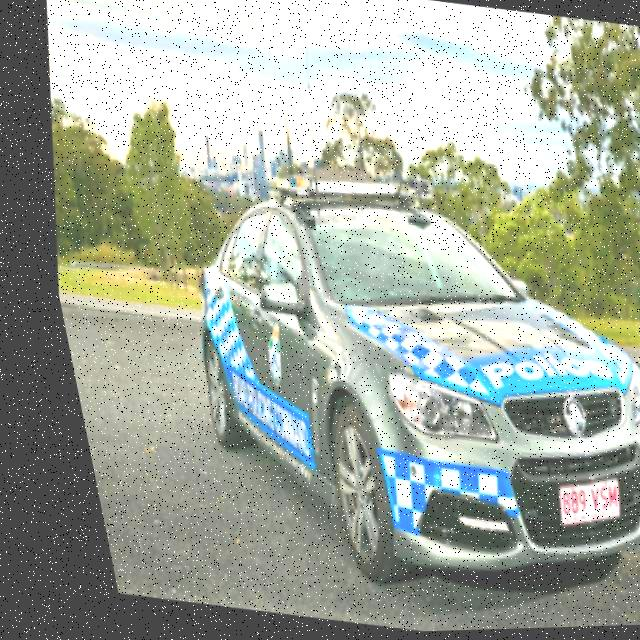license_plate: (533, 472, 610, 534)
